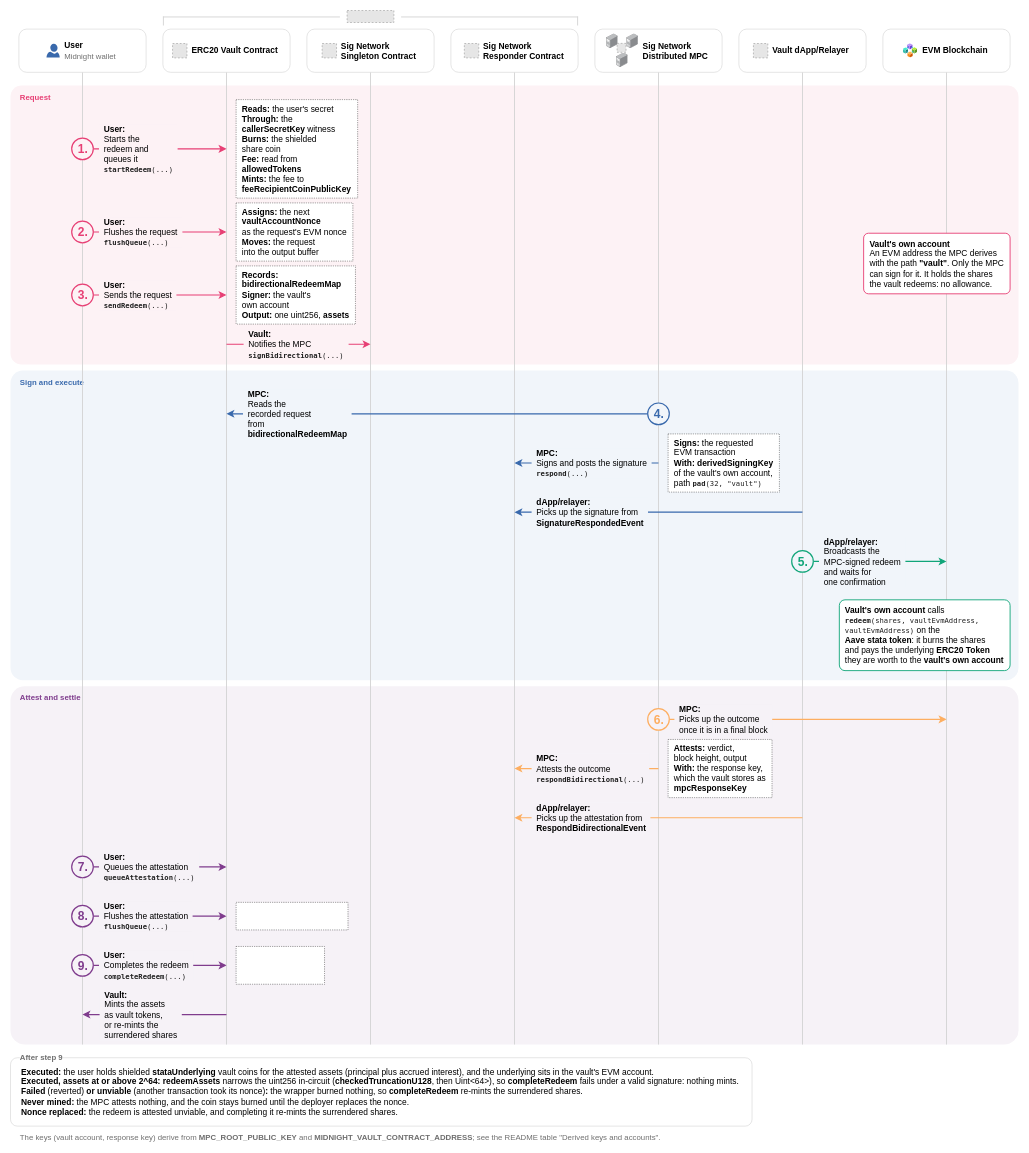
Image size: 1029x1153. Some labels were removed from this diagram. Grey dashed boxes stand in for pictures. Here are the shapes that lost their labels. From the top down, the box of each, then its label:
(236, 902, 348, 930): Moves: the attestation into the output buffer
(236, 946, 325, 984): With: the request id, the 32-byte output, a mint nonce
